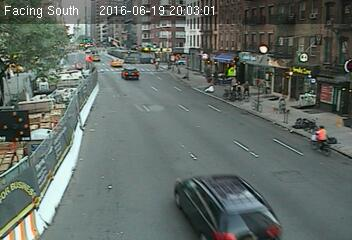neg: (308, 121, 332, 153)
pos: (271, 90, 289, 113), (238, 77, 254, 98), (151, 59, 163, 74)
